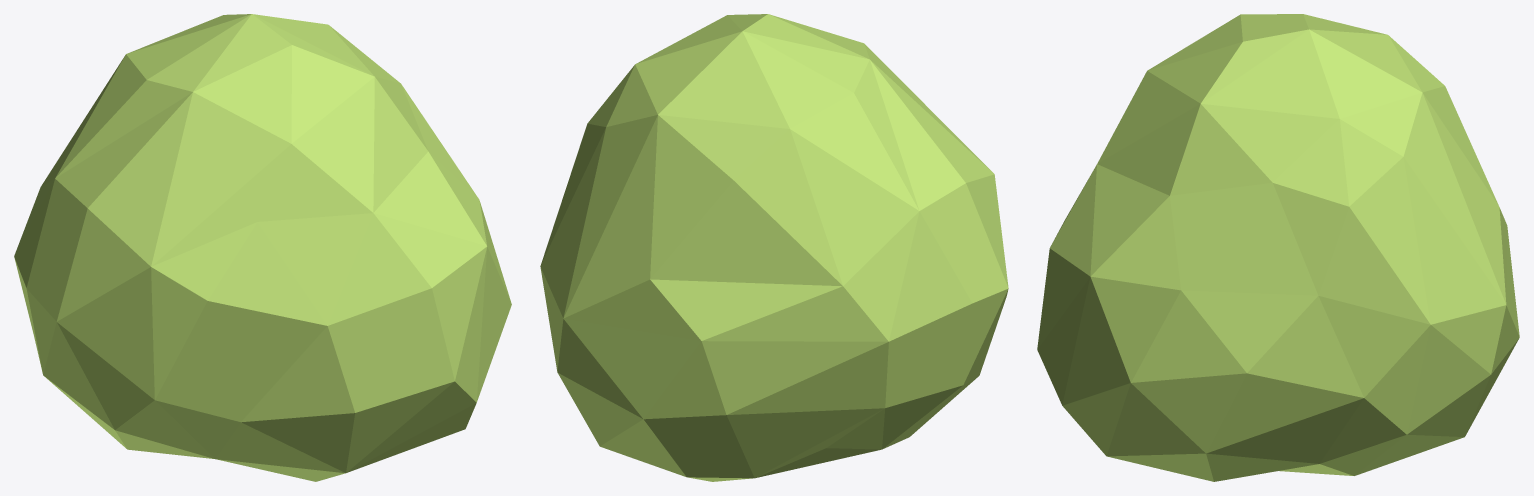
The model's file is Bush_f_m_02.fbx.
The picture shows the model from 3 angles, left to right: view 1: azimuth 30°, elevation 25°; view 2: azimuth 150°, elevation 25°; view 3: azimuth 270°, elevation 25°; orthographic projection.
Parts seen in each view (by area): view 1: Bush_f_m_02; view 2: Bush_f_m_02; view 3: Bush_f_m_02.
Boxes of the visible parts, <box> form: Bush_f_m_02: <box>14,14,511,481</box>; Bush_f_m_02: <box>540,14,1008,481</box>; Bush_f_m_02: <box>1037,14,1519,481</box>.
Size of the model in its own units: 140 by 139 by 142.
